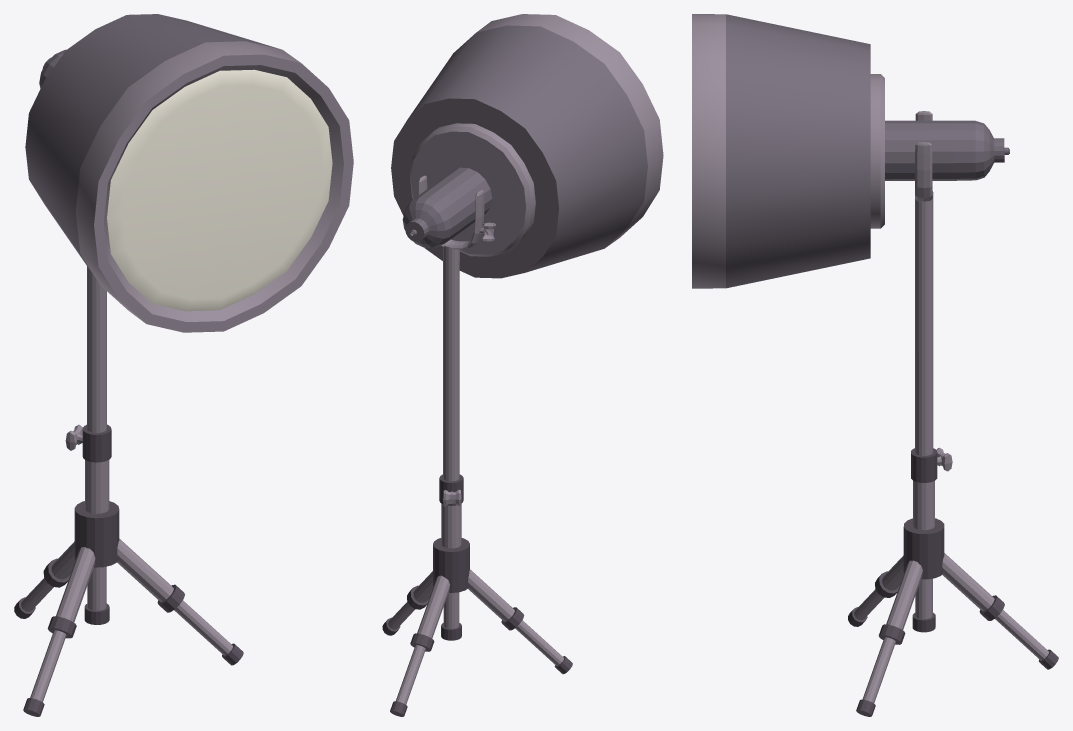
Rendered from PhotoShoot_Light_03.fbx.
3 renders of one model, left to right at view 1: azimuth 30°, elevation 25°; view 2: azimuth 150°, elevation 25°; view 3: azimuth 270°, elevation 25°, orthographic. The views are drawn at different scales.
Parts seen in each view (by area): view 1: pCylinder2, Stand_03; view 2: pCylinder2, Stand_03, polySurface99; view 3: pCylinder2, Stand_03, polySurface99.
Boxes of the visible parts, bbox=[...] form: pCylinder2: bbox=[25, 14, 353, 332]; Stand_03: bbox=[14, 266, 243, 716]; pCylinder2: bbox=[391, 14, 663, 278]; Stand_03: bbox=[382, 175, 572, 716]; polySurface99: bbox=[402, 167, 492, 247]; pCylinder2: bbox=[692, 14, 884, 288]; Stand_03: bbox=[848, 111, 1058, 716]; polySurface99: bbox=[885, 120, 1009, 180].
Bounding box in the file's own units: 45.71 × 118 × 60.81.
1 material, 1 textured.
